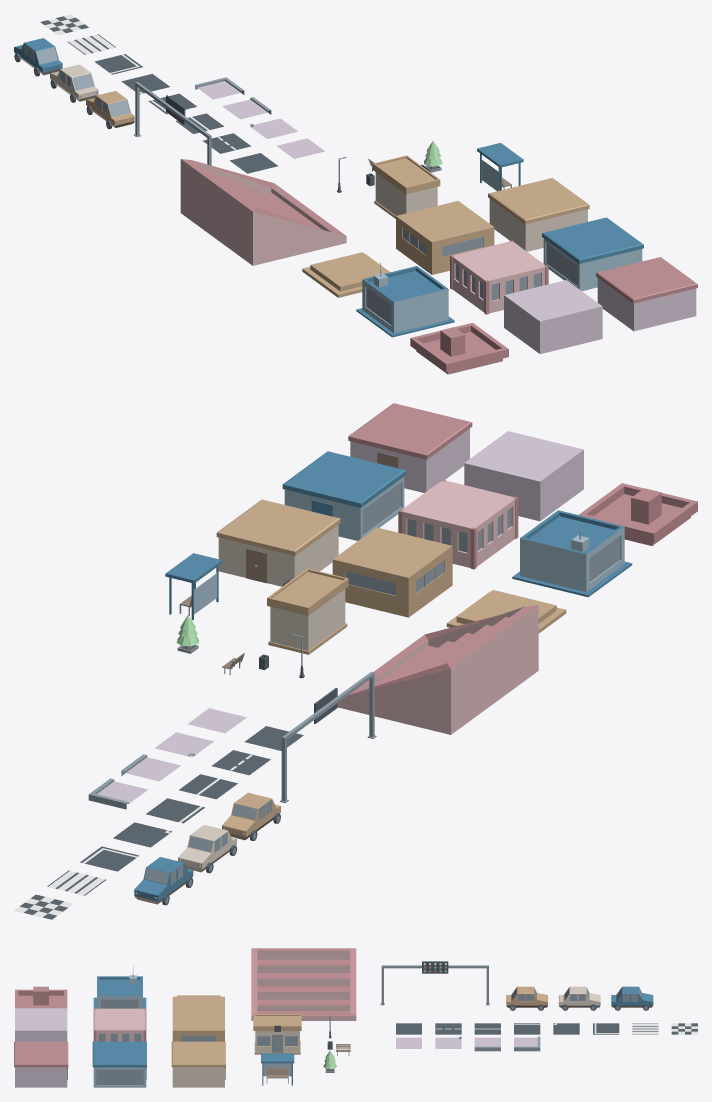
Rendered from TrackCityAssetLite.fbx.
3 renders of one model, top to bottom at view 1: azimuth 30°, elevation 25°; view 2: azimuth 150°, elevation 25°; view 3: azimuth 270°, elevation 25°, orthographic. The views are drawn at different scales.
Parts seen in each view (by area): view 1: GrandStand, Bottom1, Mid1, Top2, Mid3, Bottom2, Bottom3, Mid2, Top1, MiniShop, Top3, BusStop (+13 smaller); view 2: GrandStand, Bottom3, Mid3, Top2, Mid1, Bottom2, Bottom1, Mid2, MiniShop, Top1, Top3, BusStop (+15 smaller); view 3: GrandStand, Bottom2, Bottom3, Bottom1, MiniShop, Mid2, Mid1, Mid3, Top2, Top1, TrafficLightRacing, BusStop (+16 smaller).
Part boxes in pixels (<box>): GrandStand: <box>180,159,346,265</box>; Bottom1: <box>596,257,697,331</box>; Mid1: <box>504,280,602,354</box>; Top2: <box>356,262,454,337</box>; Mid3: <box>396,201,494,274</box>; Bottom2: <box>542,217,643,290</box>; Bottom3: <box>488,178,589,251</box>; Mid2: <box>450,240,548,314</box>; Top1: <box>410,323,508,374</box>; MiniShop: <box>373,155,440,218</box>; Top3: <box>302,252,389,297</box>; BusStop: <box>477,143,523,191</box>; GrandStand: <box>337,605,538,734</box>; Bottom3: <box>216,499,340,586</box>; Mid3: <box>332,527,452,617</box>; Top2: <box>512,510,632,597</box>; Mid1: <box>464,431,583,521</box>; Bottom2: <box>282,451,406,540</box>; Bottom1: <box>348,403,472,492</box>; Mid2: <box>398,479,518,569</box>; MiniShop: <box>267,568,348,654</box>; Top1: <box>579,483,697,545</box>; Top3: <box>446,590,566,633</box>; BusStop: <box>165,553,222,620</box>; GrandStand: <box>251,948,356,1020</box>; Bottom2: <box>92,1041,146,1087</box>; Bottom3: <box>171,1041,225,1087</box>; Bottom1: <box>14,1041,68,1087</box>; MiniShop: <box>253,1014,301,1054</box>; Mid2: <box>93,1008,146,1041</box>; Mid1: <box>15,1008,67,1041</box>; Mid3: <box>172,1008,224,1041</box>; Top2: <box>93,966,146,1008</box>; Top1: <box>15,986,67,1008</box>; TrafficLightRacing: <box>380,961,489,1005</box>; BusStop: <box>261,1053,294,1085</box>.
Bounding box in the file's own units: 1807 × 386 × 5207.
